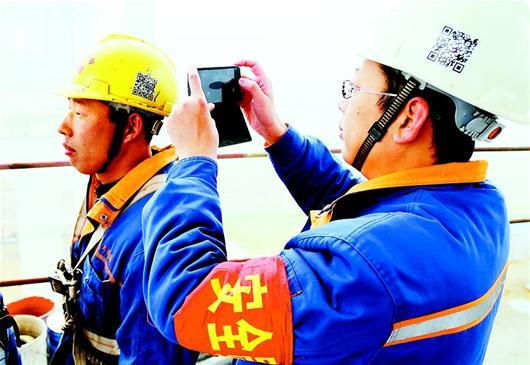helmet: (362, 8, 525, 132), (62, 34, 177, 117)
